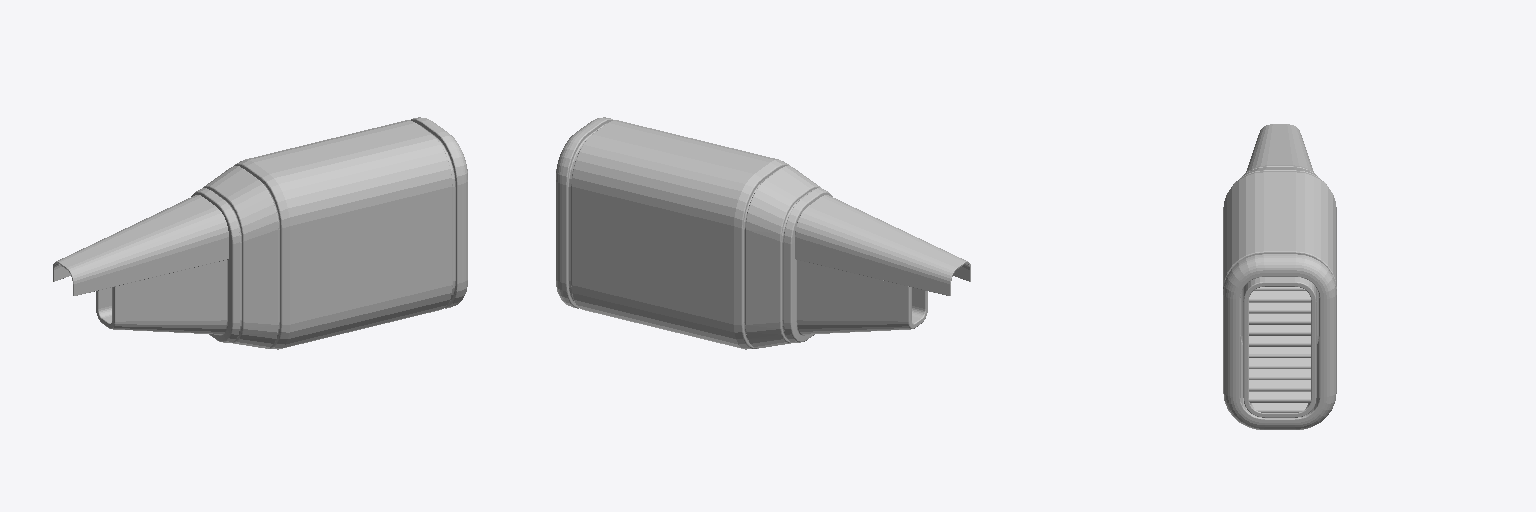
Rendered from speeder.obj.
The picture shows the model from 3 angles: view 1: azimuth 30°, elevation 25°; view 2: azimuth 150°, elevation 25°; view 3: azimuth 270°, elevation 25°; orthographic projection.
Parts seen in each view (by area): view 1: speeder; view 2: speeder; view 3: speeder.
Part boxes in pixels (left/top/right/bottom): speeder: left=53, top=117, right=467, bottom=349; speeder: left=556, top=117, right=970, bottom=349; speeder: left=1223, top=124, right=1336, bottom=429.
Size of the model in its own units: 2.81 by 1.2 by 0.7153.